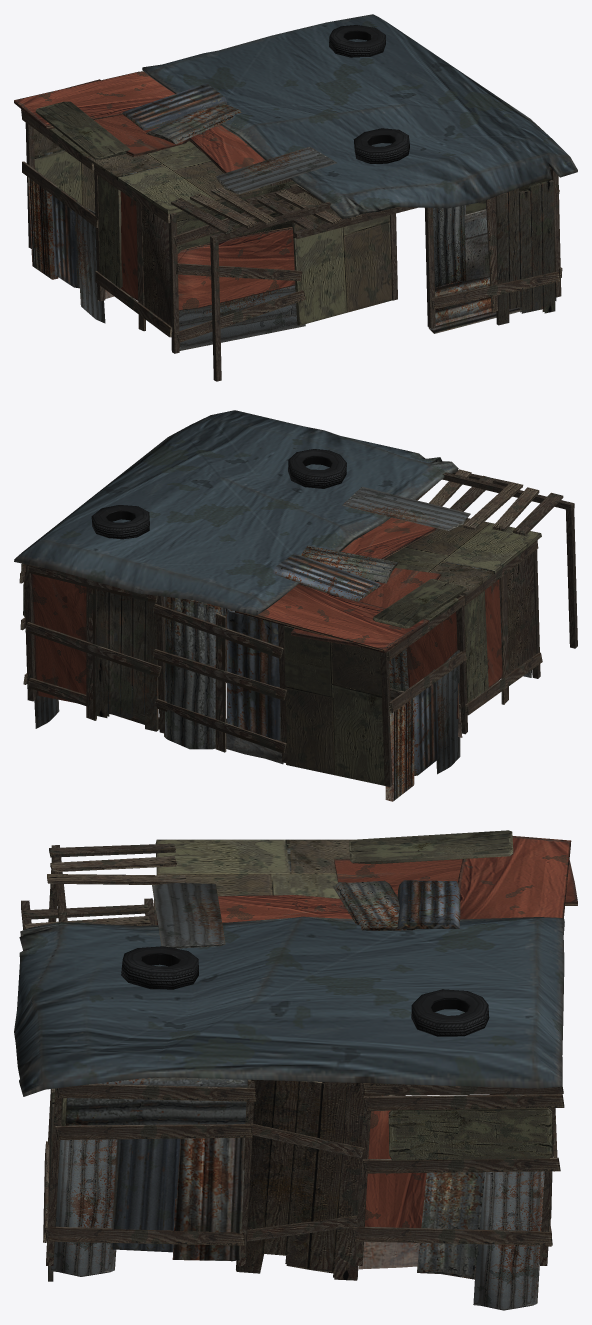
File: number2_exploded.fbx
3 views of the same model, one above another, from view 1: azimuth 30°, elevation 25°; view 2: azimuth 150°, elevation 25°; view 3: azimuth 270°, elevation 25° (orthographic). The views are drawn at different scales.
Parts seen in each view (by area): view 1: Walls, Roof_1_13, Walls_1_24, Roof_1_12, Roof_1_17, Roof, Roof_1_16, Roof_1_18, Walls_1_23, Walls_1_22, Walls_1_19, Walls_1_20 (+12 smaller); view 2: Walls, Roof_1_13, Walls_1_13, Walls_1_10, Roof_1_12, Roof_1_17, Walls_1_11, Roof, Roof_1_16, Roof_1_18, Walls_1_19, Roof_1_15 (+10 smaller); view 3: Roof_1_13, Walls, Roof_1_12, Roof_1_17, Walls_1_18, Walls_1_17, Walls_1_16, Roof, Walls_1_15, Roof_1_18, Roof_1_16, Roof_1_15 (+9 smaller).
Boxes of the visible parts, x1,y1,x2,y2 form: Walls: [21, 109, 562, 381]; Roof_1_13: [142, 14, 577, 218]; Walls_1_24: [496, 180, 555, 325]; Roof_1_12: [88, 140, 262, 214]; Roof_1_17: [14, 71, 174, 129]; Roof: [122, 83, 241, 144]; Roof_1_16: [216, 147, 336, 194]; Roof_1_18: [35, 101, 130, 159]; Walls_1_23: [433, 205, 466, 287]; Walls_1_22: [428, 276, 521, 333]; Walls_1_19: [28, 177, 58, 279]; Walls_1_20: [52, 195, 79, 288]; Walls: [19, 509, 577, 787]; Roof_1_13: [14, 410, 458, 615]; Walls_1_13: [95, 589, 158, 731]; Walls_1_10: [164, 596, 220, 749]; Roof_1_12: [385, 518, 541, 595]; Roof_1_17: [235, 583, 429, 652]; Walls_1_11: [227, 608, 281, 741]; Roof: [272, 545, 398, 601]; Roof_1_16: [342, 487, 470, 530]; Roof_1_18: [373, 579, 466, 628]; Walls_1_19: [385, 698, 414, 801]; Roof_1_15: [341, 517, 436, 559]; Roof_1_13: [14, 916, 564, 1096]; Walls: [43, 858, 564, 1310]; Roof_1_12: [155, 839, 352, 898]; Roof_1_17: [458, 836, 571, 919]; Walls_1_18: [172, 1137, 244, 1261]; Walls_1_17: [111, 1138, 180, 1252]; Walls_1_16: [62, 1077, 247, 1125]; Roof: [333, 880, 460, 930]; Walls_1_15: [417, 1172, 484, 1279]; Roof_1_18: [349, 830, 513, 864]; Roof_1_16: [152, 883, 225, 948]; Roof_1_15: [218, 895, 352, 922].
Size of the model in its own units: 2.96 by 1.54 by 2.89.
